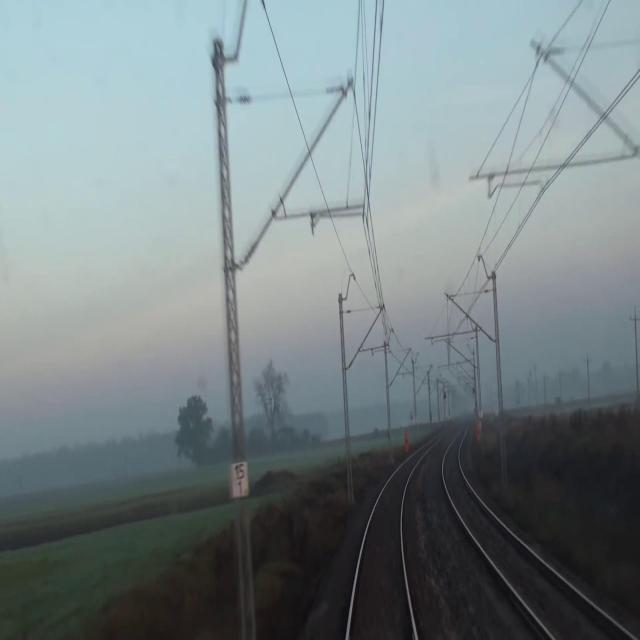rail-track: (445, 433, 627, 639), (350, 459, 415, 639)
